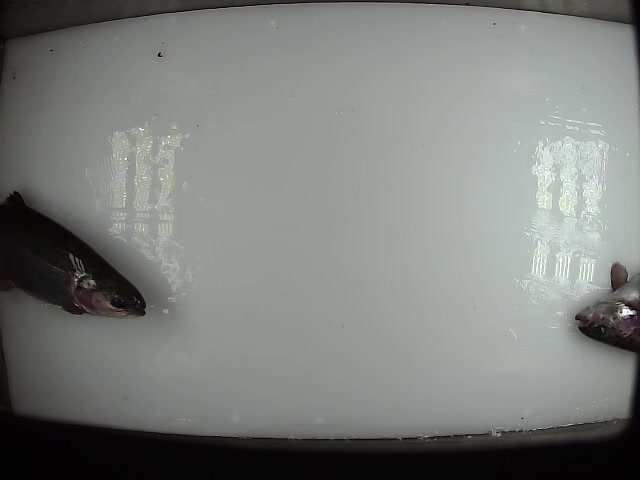fish: (1, 190, 151, 321), (574, 257, 640, 353)
